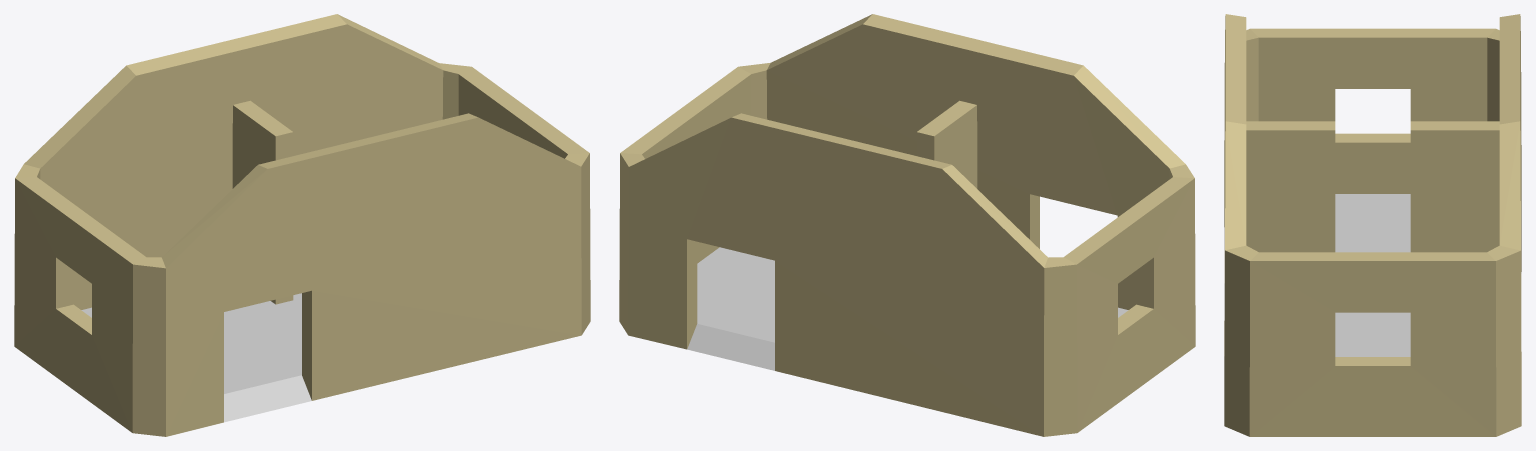
The model's file is 6x12house.fbx.
3 renders of one model, left to right at view 1: azimuth 30°, elevation 25°; view 2: azimuth 150°, elevation 25°; view 3: azimuth 270°, elevation 25°, orthographic. The views are drawn at different scales.
Parts seen in each view (by area): view 1: Plane.052; view 2: Plane.052; view 3: Plane.052.
Part boxes in pixels (bbox=[...]): Plane.052: bbox=[14, 14, 590, 436]; Plane.052: bbox=[619, 14, 1195, 436]; Plane.052: bbox=[1224, 14, 1521, 436].
Bounding box in the file's own units: 1304 × 659 × 704.
